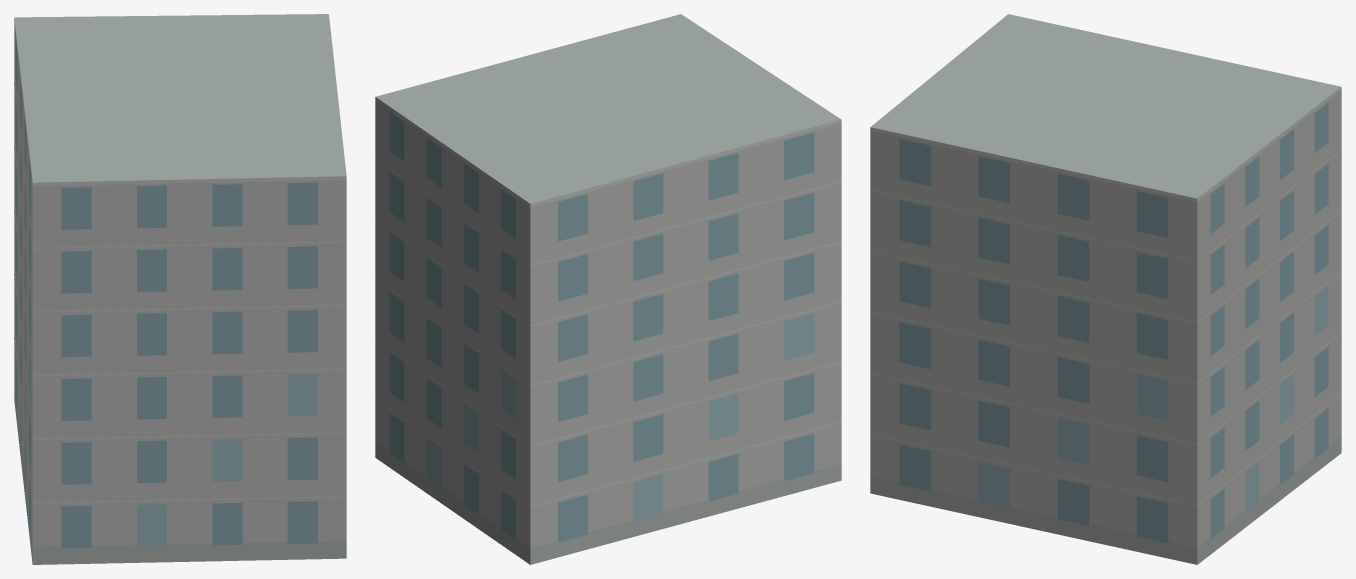
File: survey-upis-32980304.glb
The picture shows the model from 3 angles, left to right: view 1: azimuth 30°, elevation 25°; view 2: azimuth 150°, elevation 25°; view 3: azimuth 270°, elevation 25°; orthographic projection. The views are drawn at different scales.
Parts seen in each view (by area): view 1: survey-upis-32980304.tmp; view 2: survey-upis-32980304.tmp; view 3: survey-upis-32980304.tmp.
Part boxes in pixels (x1,y1,x2,y2): survey-upis-32980304.tmp: [14, 14, 346, 564]; survey-upis-32980304.tmp: [375, 14, 841, 564]; survey-upis-32980304.tmp: [870, 14, 1341, 564].
Bounding box in the file's own units: 26.45 × 24.45 × 28.53.
